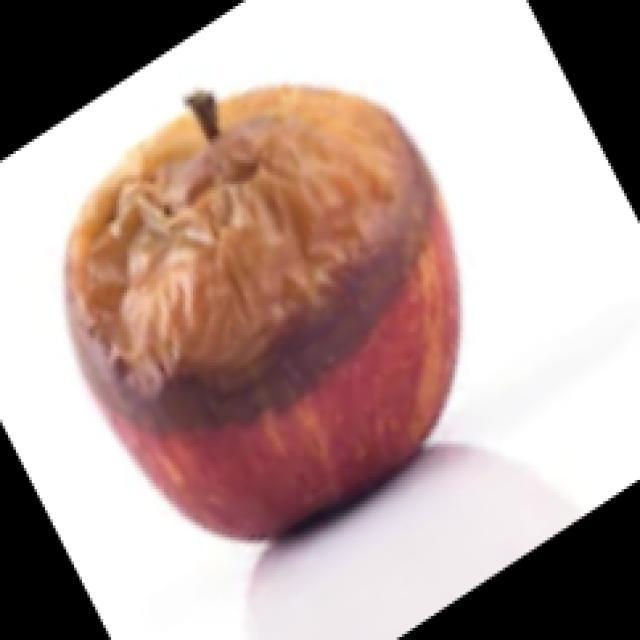Rotten: (48, 83, 465, 540)
